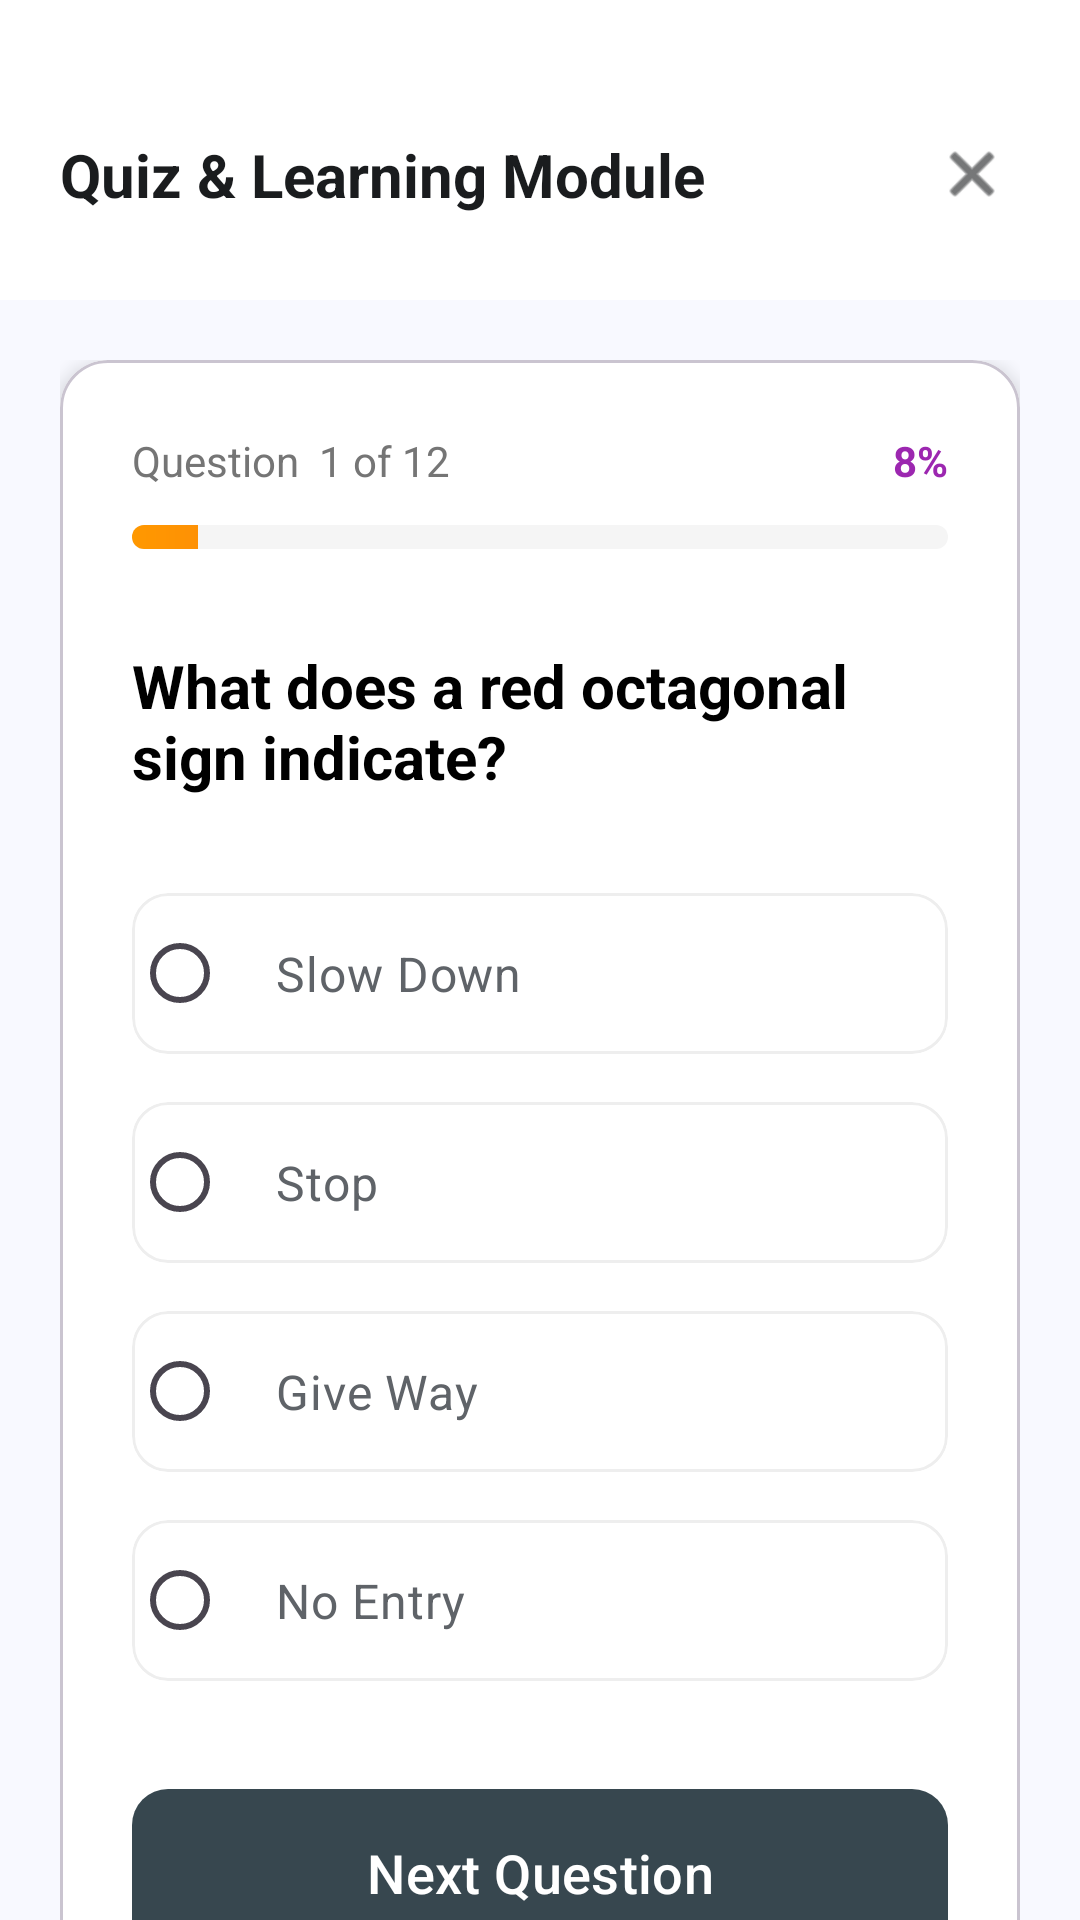

Icon bounding boxes for this 1080w x 1920h phone screenshot, format [x1, y1, x2, y2]:
close clear cancel: [949, 151, 995, 197]
